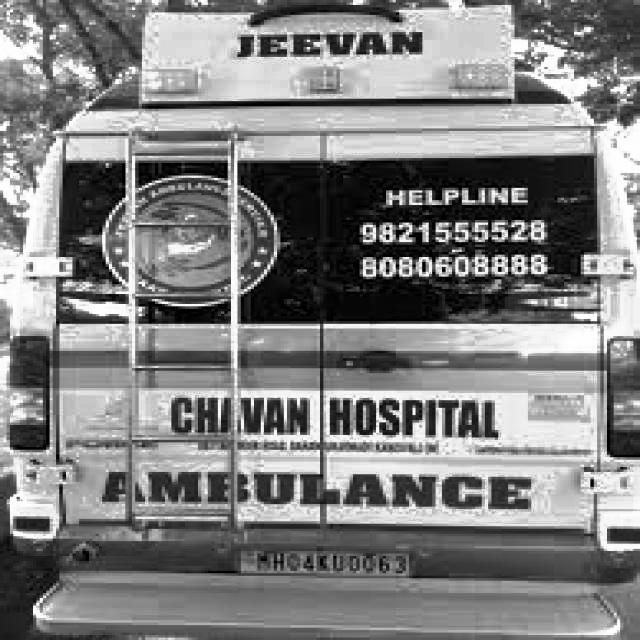LCV: (11, 6, 628, 576)
